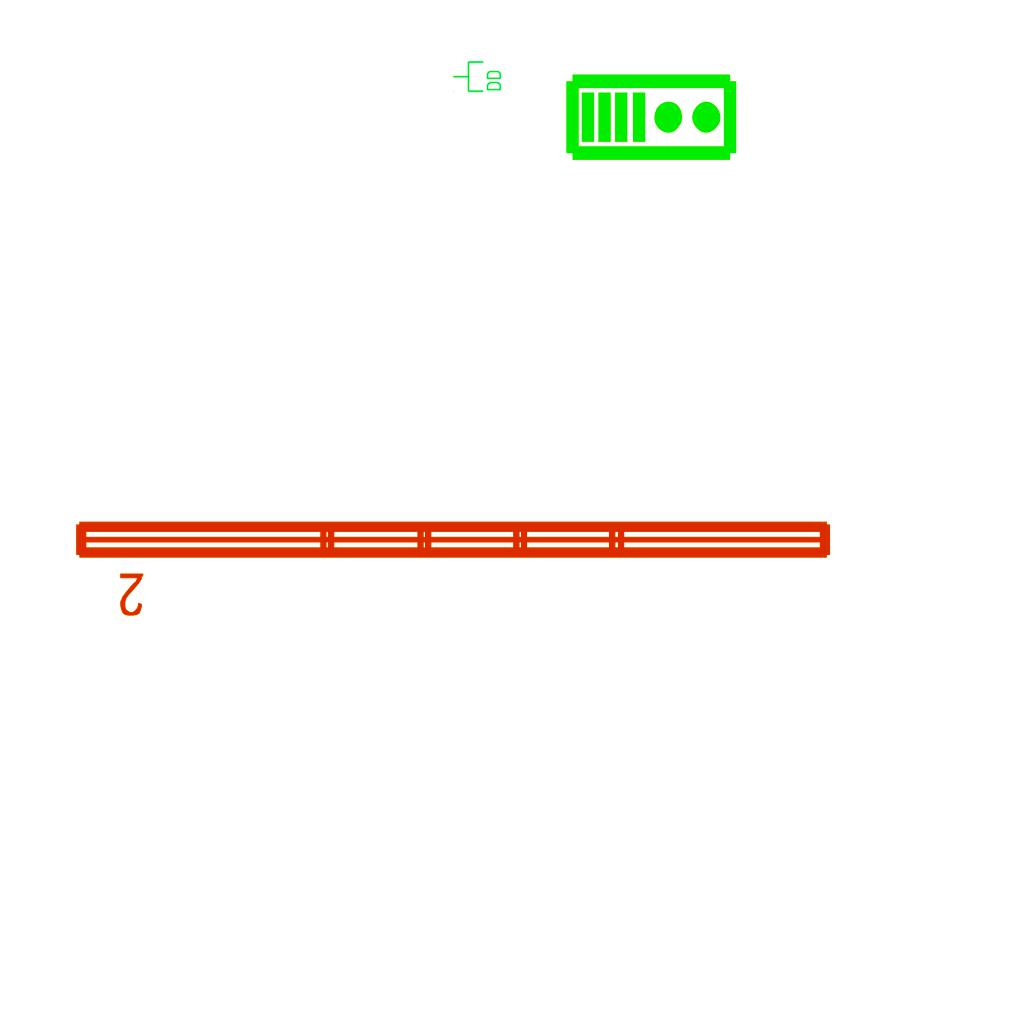Ambulanz_Pendelleuchte_LED: (67, 509, 841, 621)
Datenanschluss_zweifach: (452, 60, 503, 94)
Gegensprechanlage_mit_Video: (564, 68, 740, 163)
